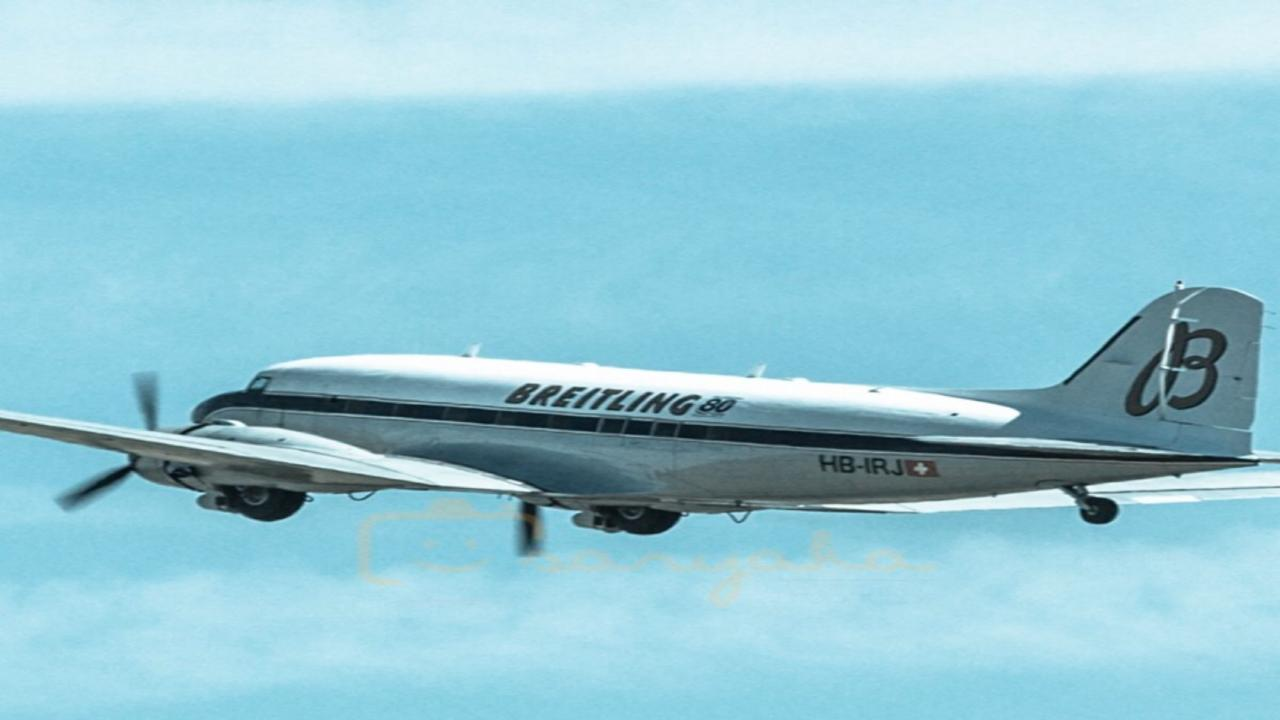Airplane: (0, 274, 1280, 562)
